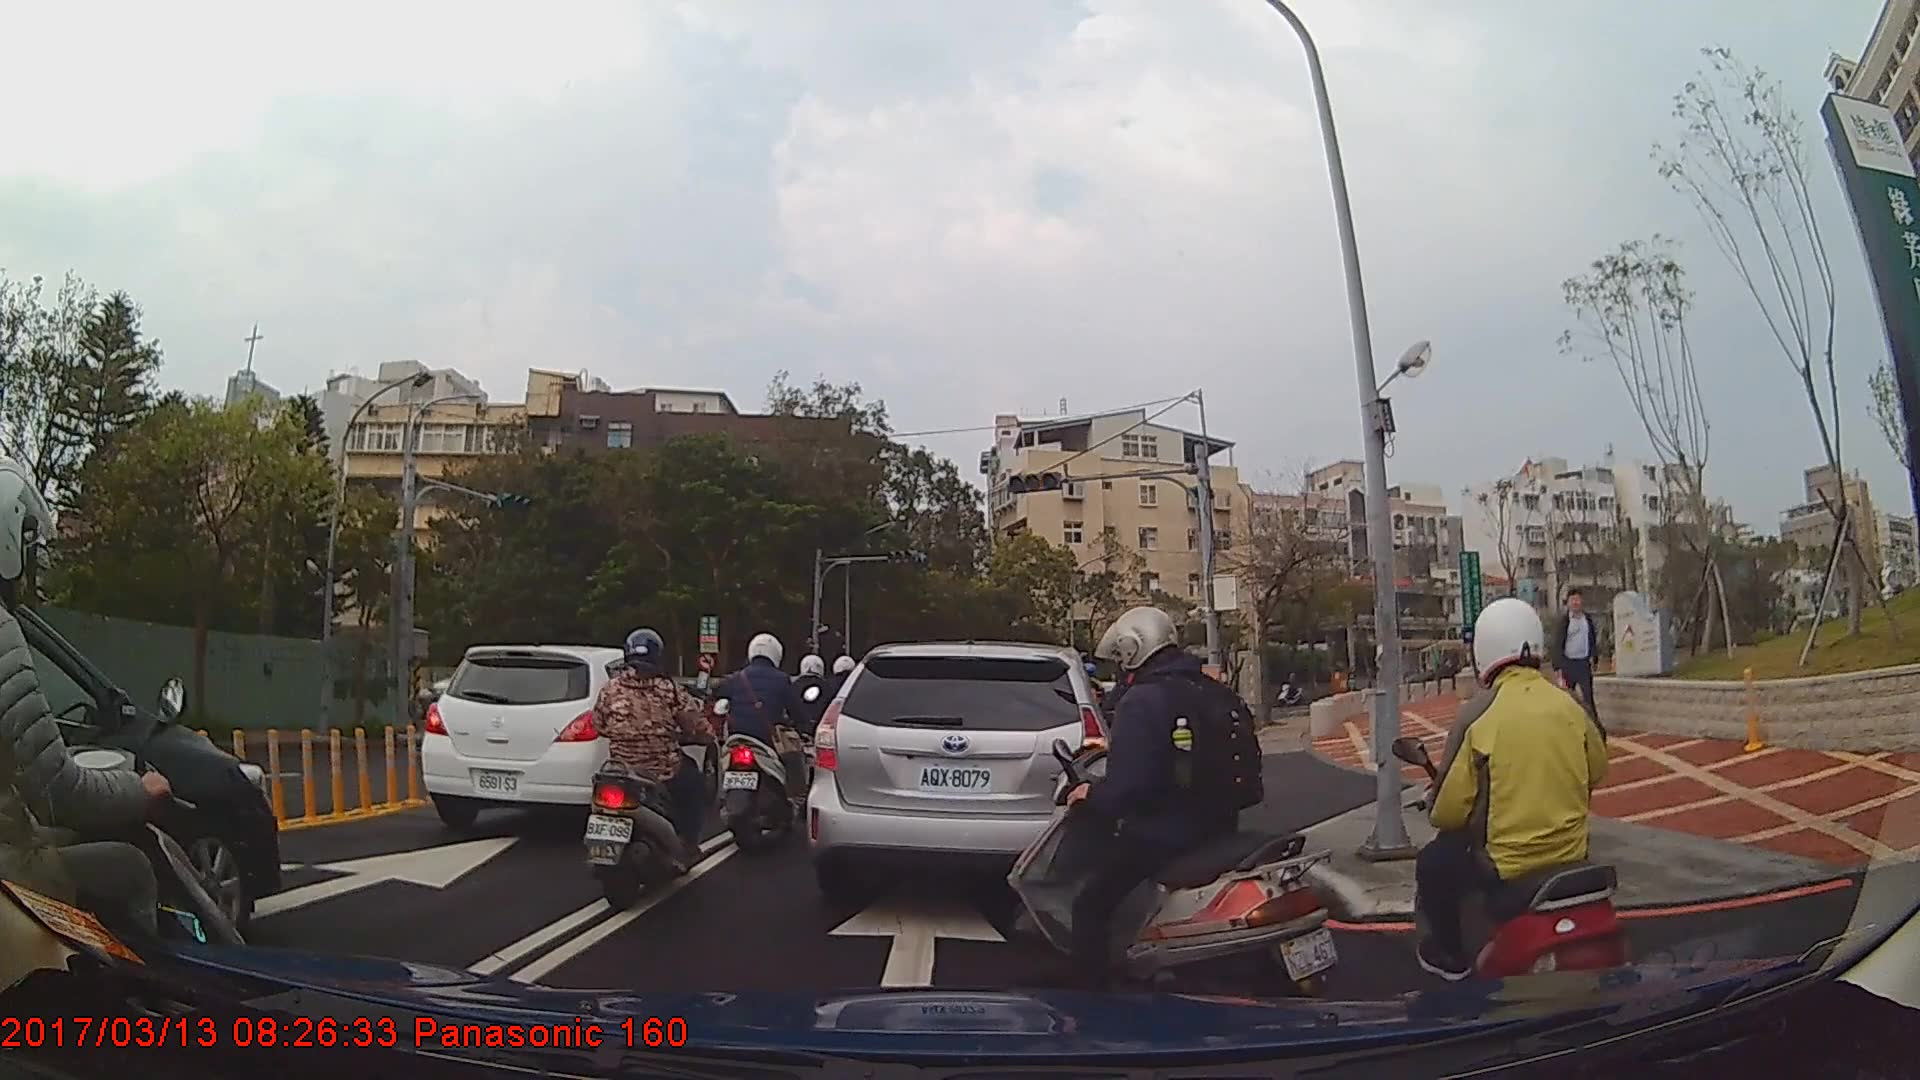pedestrian: (1558, 587, 1616, 744)
rider: (1004, 606, 1341, 1008), (1394, 591, 1633, 1042), (582, 625, 717, 912), (716, 630, 821, 851), (788, 655, 844, 803)
vehicle: (0, 590, 278, 956), (804, 638, 1118, 922), (417, 643, 720, 831)
